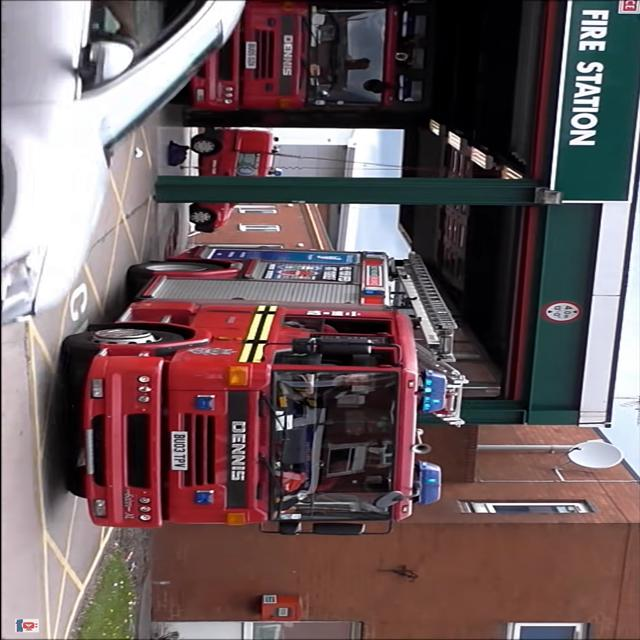emergency-vehicles: (49, 230, 470, 556)
